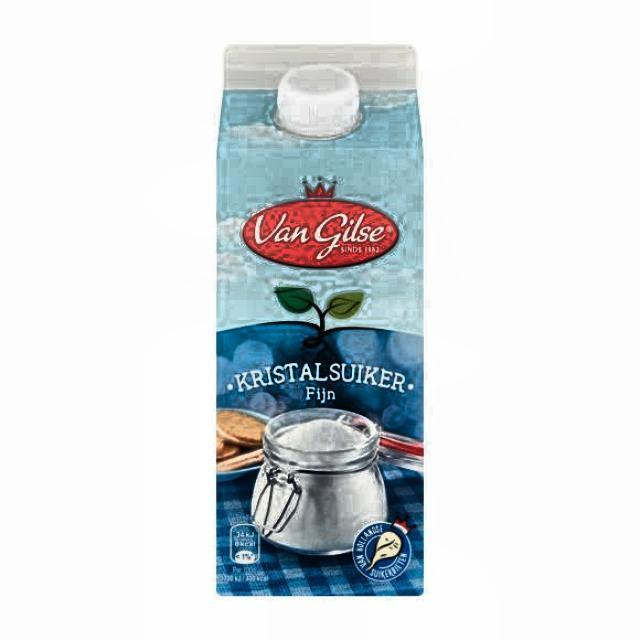cardboard: (214, 43, 425, 596)
